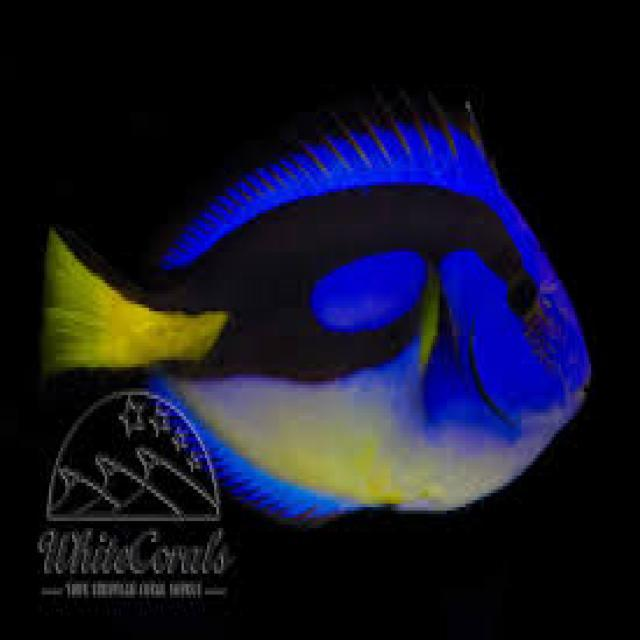BlueTang: (43, 112, 597, 519)
